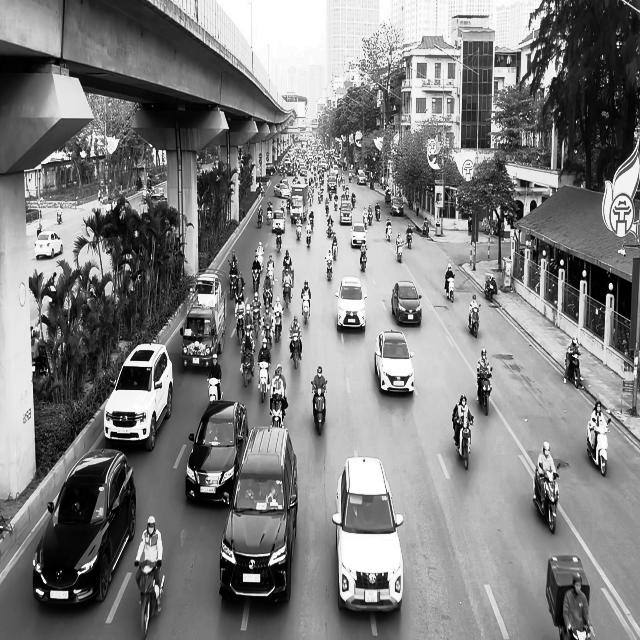car: (32, 447, 136, 607), (219, 424, 298, 604), (332, 456, 404, 613), (104, 342, 174, 452), (185, 400, 249, 506), (375, 330, 415, 396), (335, 276, 368, 331), (392, 280, 422, 326), (34, 230, 64, 260), (350, 222, 367, 247)
motorbike: (134, 559, 166, 639), (533, 460, 561, 533), (586, 417, 612, 476), (454, 413, 474, 469), (312, 380, 328, 435), (477, 366, 493, 416), (564, 351, 582, 388), (270, 393, 286, 428), (206, 369, 222, 402), (468, 303, 481, 338), (302, 291, 311, 324), (485, 274, 495, 301), (446, 274, 455, 302), (360, 246, 368, 272), (396, 240, 404, 262), (386, 223, 392, 242), (407, 230, 412, 250)
truck: (180, 272, 228, 369)
